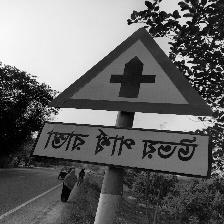Crossroad: (33, 27, 214, 184)
